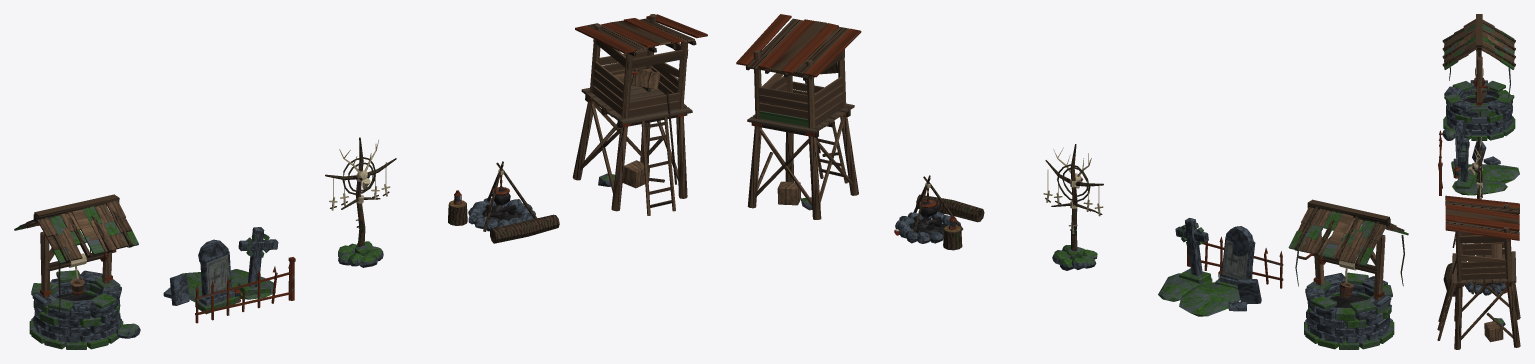
The model's file is ForestProps_Pack2_Landmarks.glb.
The picture shows the model from 3 angles, left to right: view 1: azimuth 30°, elevation 25°; view 2: azimuth 150°, elevation 25°; view 3: azimuth 270°, elevation 25°; orthographic projection. The views are drawn at different scales.
Visible parts, largest first — view 1: Prop_HuntingBlind_Rotted, Prop_AbandonedWell, Prop_OldGravestones, Prop_AbandonedCampfire, Prop_WoodsTotem; view 2: Prop_HuntingBlind_Rotted, Prop_AbandonedWell, Prop_OldGravestones, Prop_AbandonedCampfire, Prop_WoodsTotem; view 3: Prop_HuntingBlind_Rotted, Prop_AbandonedWell, Prop_OldGravestones, Prop_AbandonedCampfire, Prop_WoodsTotem.
Boxes of the visible parts, <box> form: Prop_HuntingBlind_Rotted: <box>572,14,707,215</box>; Prop_AbandonedWell: <box>14,194,140,349</box>; Prop_OldGravestones: <box>163,227,295,323</box>; Prop_AbandonedCampfire: <box>448,161,559,243</box>; Prop_WoodsTotem: <box>325,137,396,267</box>; Prop_HuntingBlind_Rotted: <box>736,14,861,219</box>; Prop_AbandonedWell: <box>1288,199,1408,349</box>; Prop_OldGravestones: <box>1158,218,1283,316</box>; Prop_AbandonedCampfire: <box>894,175,984,250</box>; Prop_WoodsTotem: <box>1043,144,1103,270</box>; Prop_HuntingBlind_Rotted: <box>1437,195,1520,349</box>; Prop_AbandonedWell: <box>1442,14,1515,140</box>; Prop_OldGravestones: <box>1438,120,1519,195</box>; Prop_AbandonedCampfire: <box>1443,263,1507,296</box>; Prop_WoodsTotem: <box>1468,136,1483,199</box>.
Size of the model in its own units: 18.51 by 4.54 by 2.67.
Materials: 1 (1 with a texture image).
